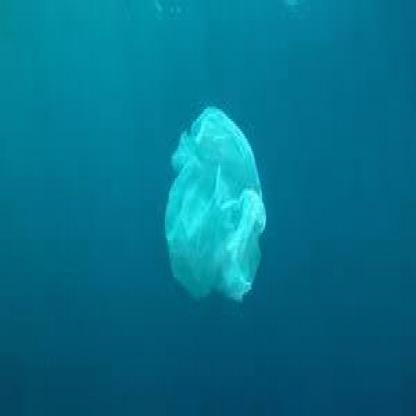pbag: (164, 104, 266, 302)
